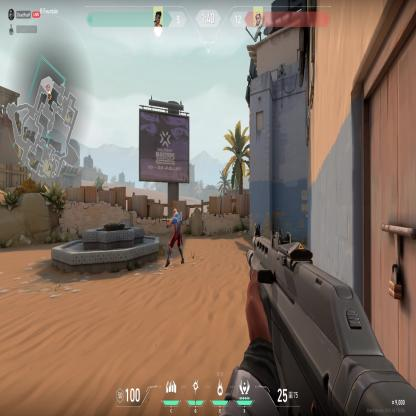enemy: (163, 206, 187, 272)
